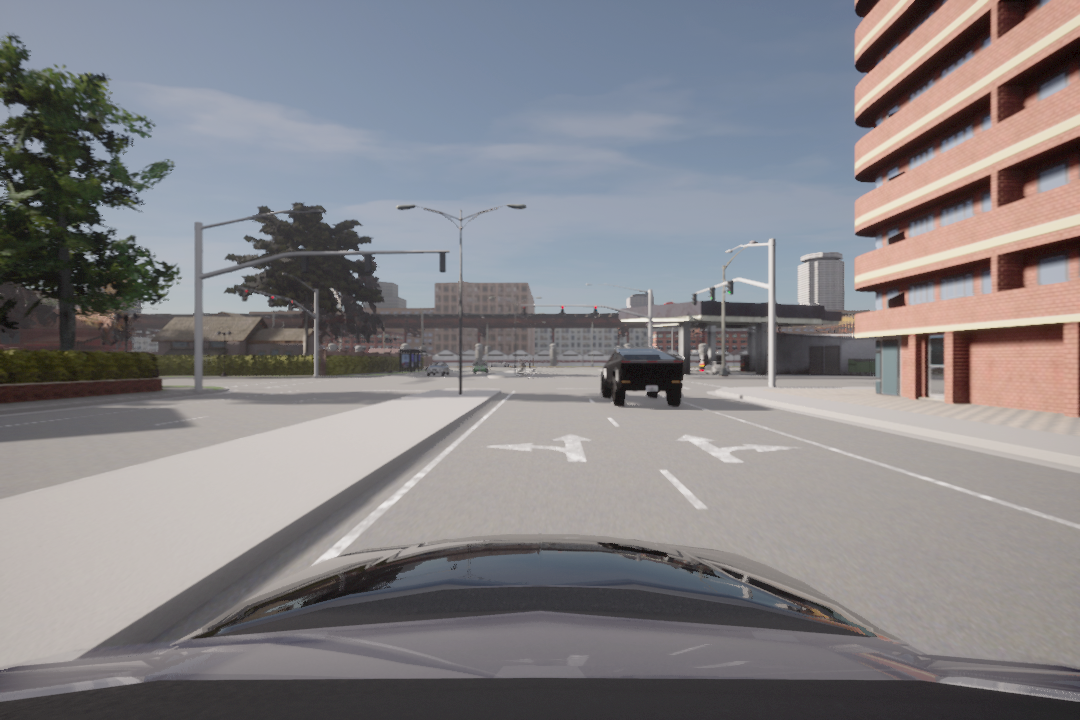RoadSign_forward_left: (484, 429, 599, 465)
RoadSign_forward_right: (671, 431, 804, 467)
